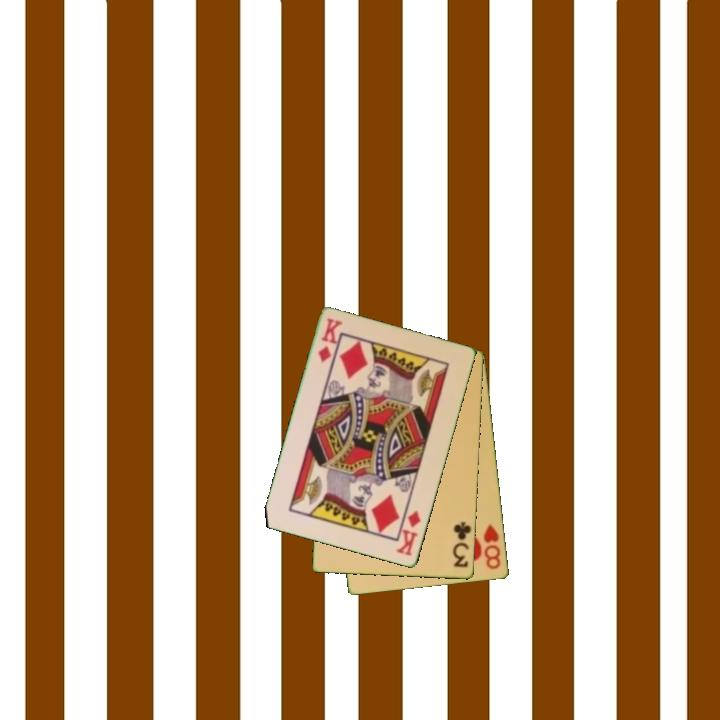3c: (449, 519, 474, 570)
8h: (480, 520, 504, 572)
Kd: (393, 507, 424, 559), (315, 315, 344, 366)
